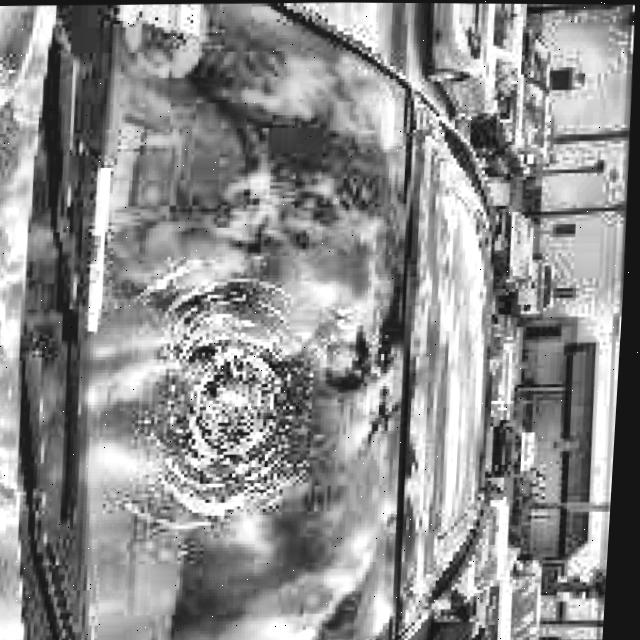glass_shatter: (162, 295, 321, 510)
